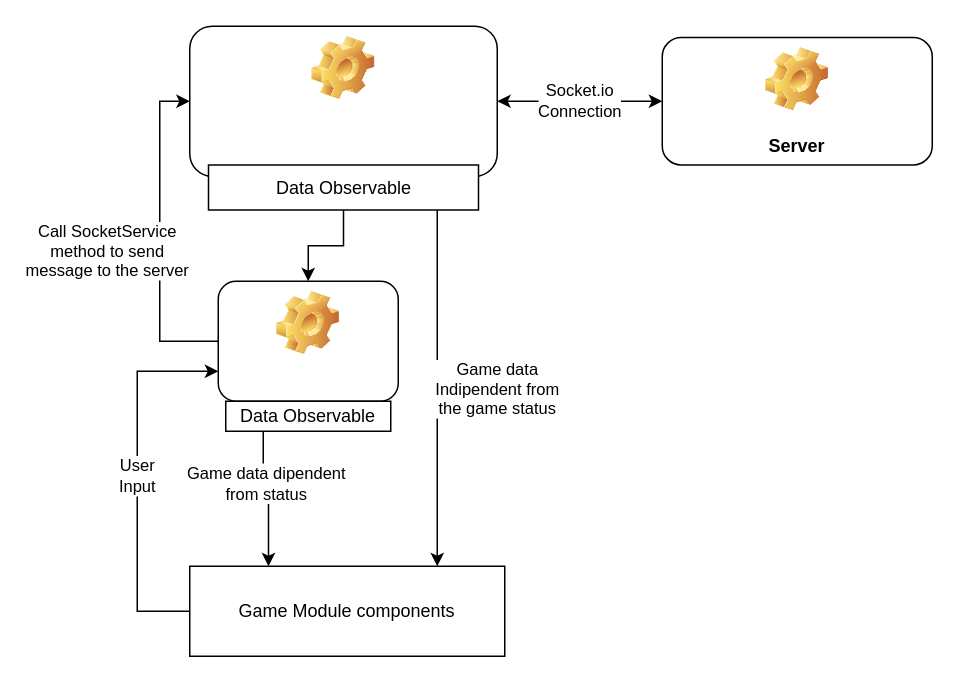
The diagram is 959 pixels wide and 683 high, and some of its shapes have lost their labels. Each missing label, with the centre of its shape:
GameService: the point at 307,340
SocketService: the point at 342,100
